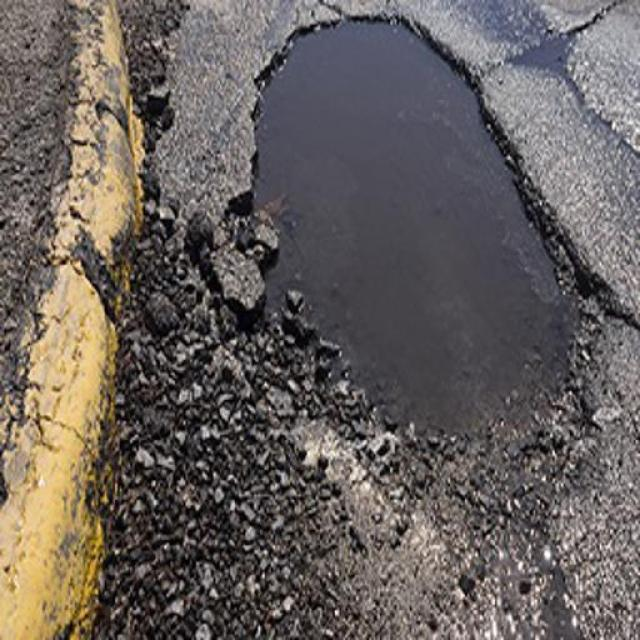puddle: (224, 36, 550, 447)
